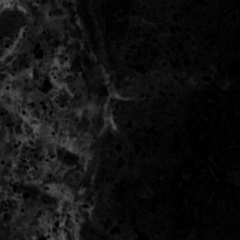Vegetation: (2, 130, 50, 187), (23, 113, 67, 150), (1, 78, 27, 113), (50, 56, 73, 91), (49, 184, 74, 208), (14, 66, 38, 86), (103, 94, 115, 129), (69, 137, 94, 153)
